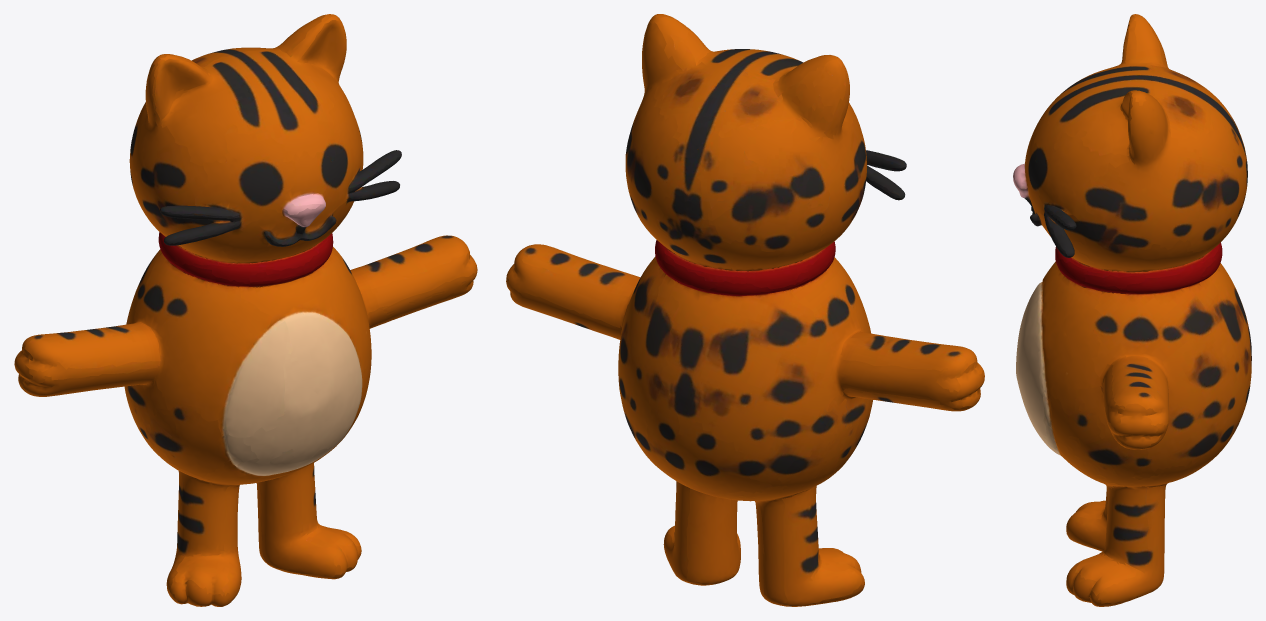
3 renders of one model, left to right at view 1: azimuth 30°, elevation 25°; view 2: azimuth 150°, elevation 25°; view 3: azimuth 270°, elevation 25°, orthographic. The views are drawn at different scales.
Visible parts, largest first — view 1: world; view 2: world; view 3: world.
Part boxes in pixels (left/top/right/bottom): world: left=14, top=14, right=477, bottom=606; world: left=506, top=14, right=984, bottom=606; world: left=1013, top=14, right=1251, bottom=606.
Size of the model in its own units: 0.28 by 0.3179 by 0.1338.
Materials: 1 (1 with a texture image).
